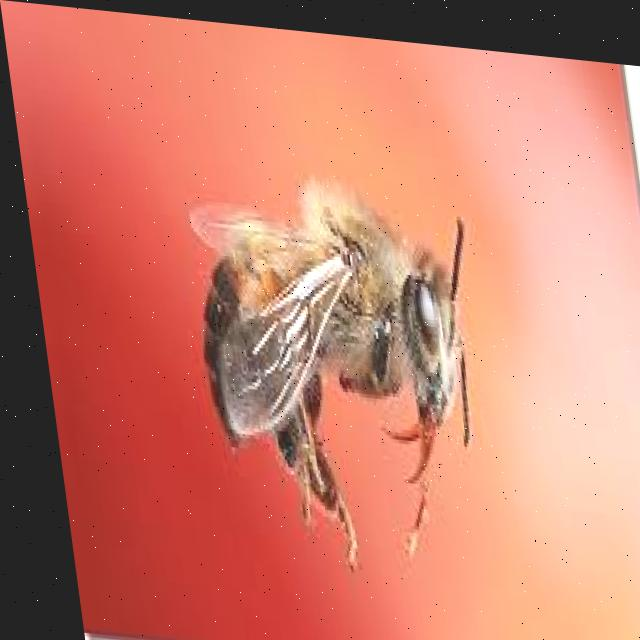Apis-mellifera-scutellata: (154, 143, 516, 588)
